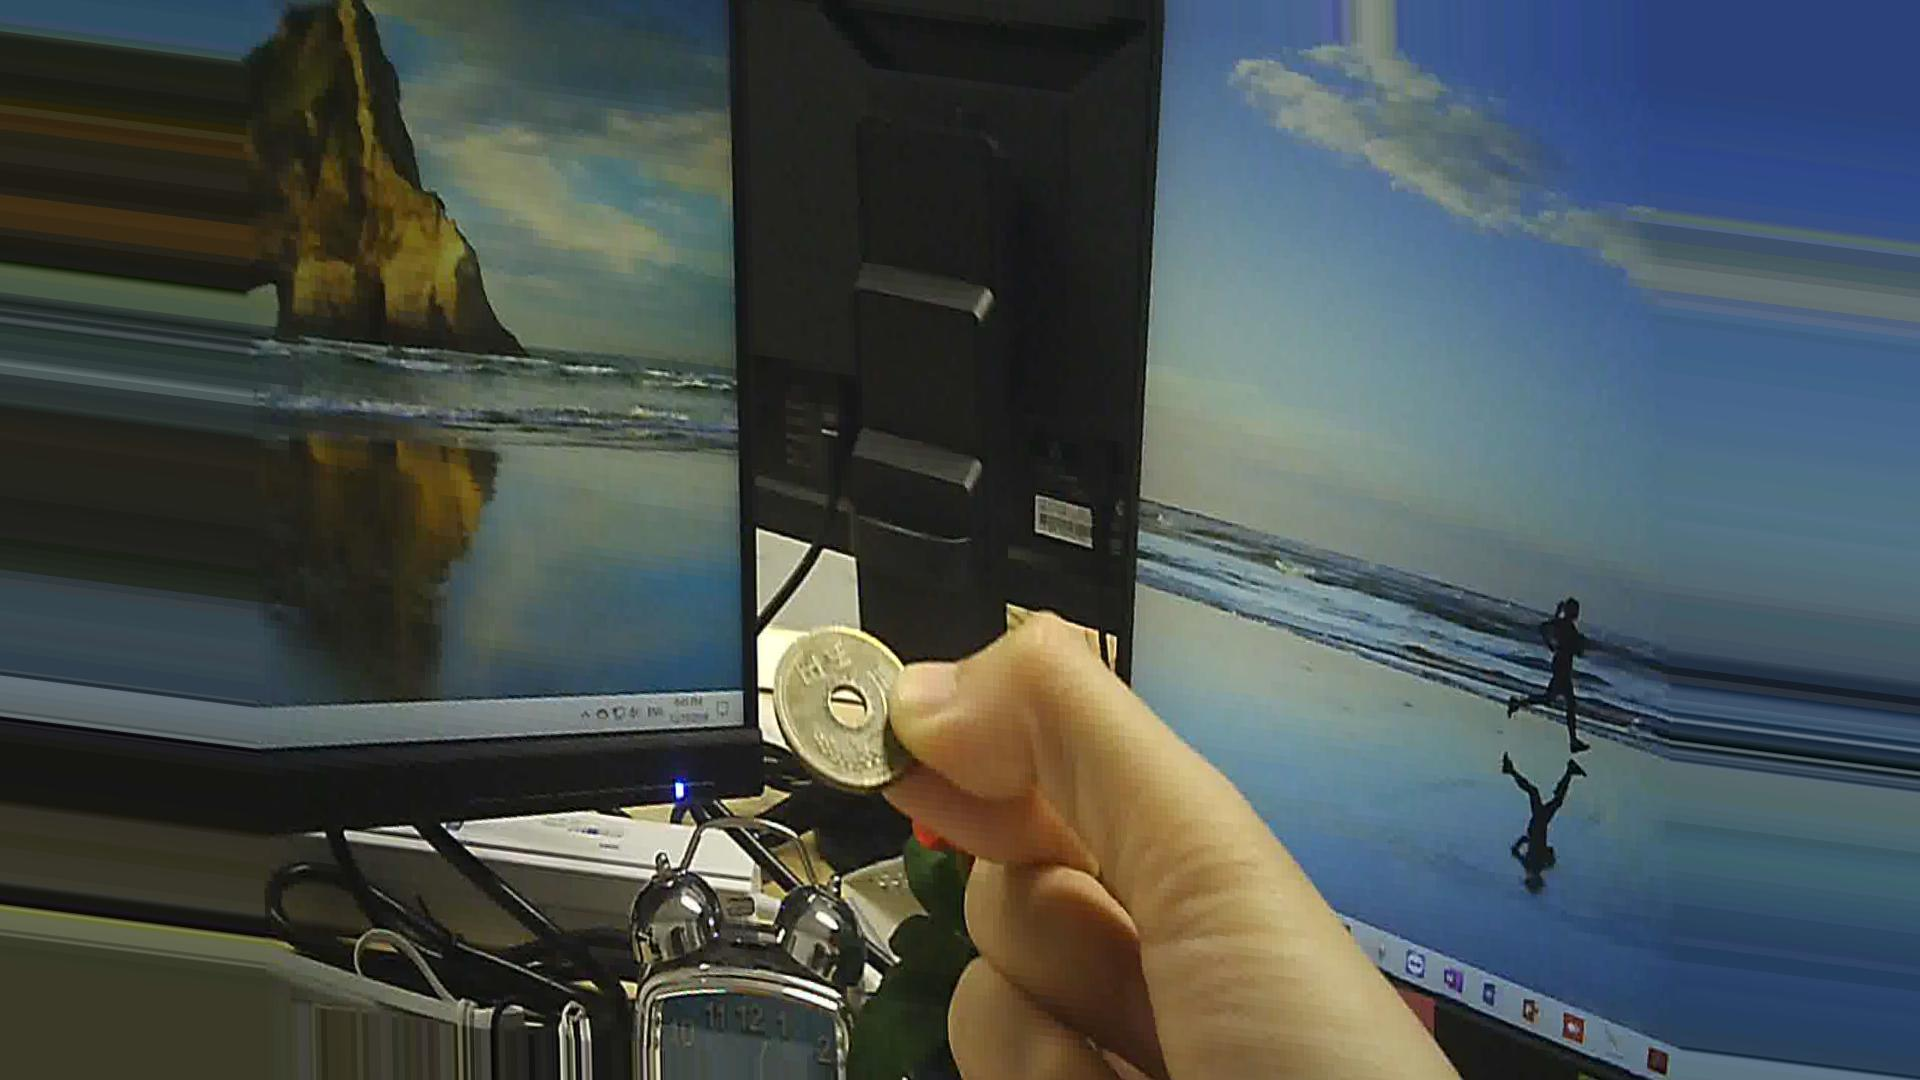5 Yen: (750, 621, 928, 815)
